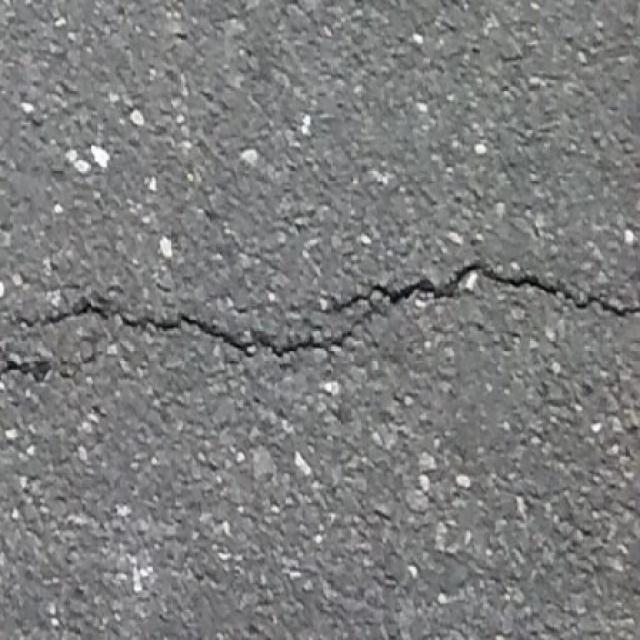Horizontal Crack: (0, 258, 640, 364)
